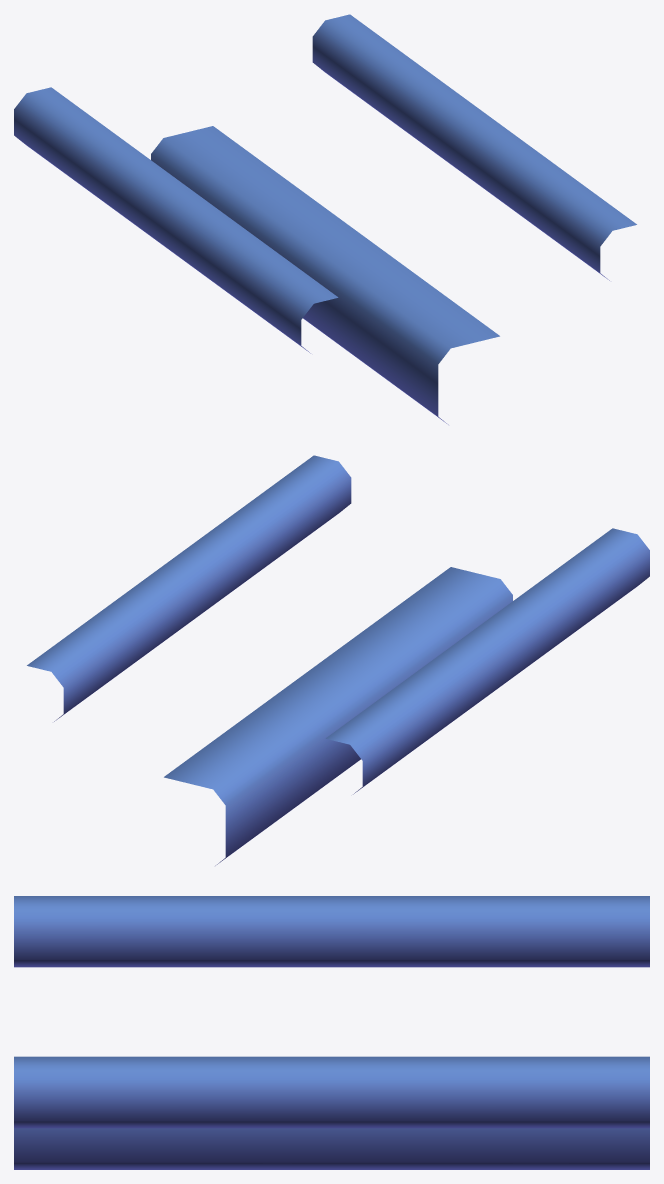
Rendered from kenney-coaster-coaster-steel-track.glb.
3 views of the same model, one above another, from view 1: azimuth 30°, elevation 25°; view 2: azimuth 150°, elevation 25°; view 3: azimuth 270°, elevation 25° (orthographic). The views are drawn at different scales.
Visible parts, largest first — view 1: coaster-steel-track; view 2: coaster-steel-track; view 3: coaster-steel-track.
Part boxes in pixels (x1,y1,x2,y2): coaster-steel-track: [14, 14, 636, 424]; coaster-steel-track: [27, 455, 649, 865]; coaster-steel-track: [14, 896, 649, 1169].
Size of the model in its own units: 0.7 by 0.3 by 1.
Materials: 1 (1 with a texture image).
